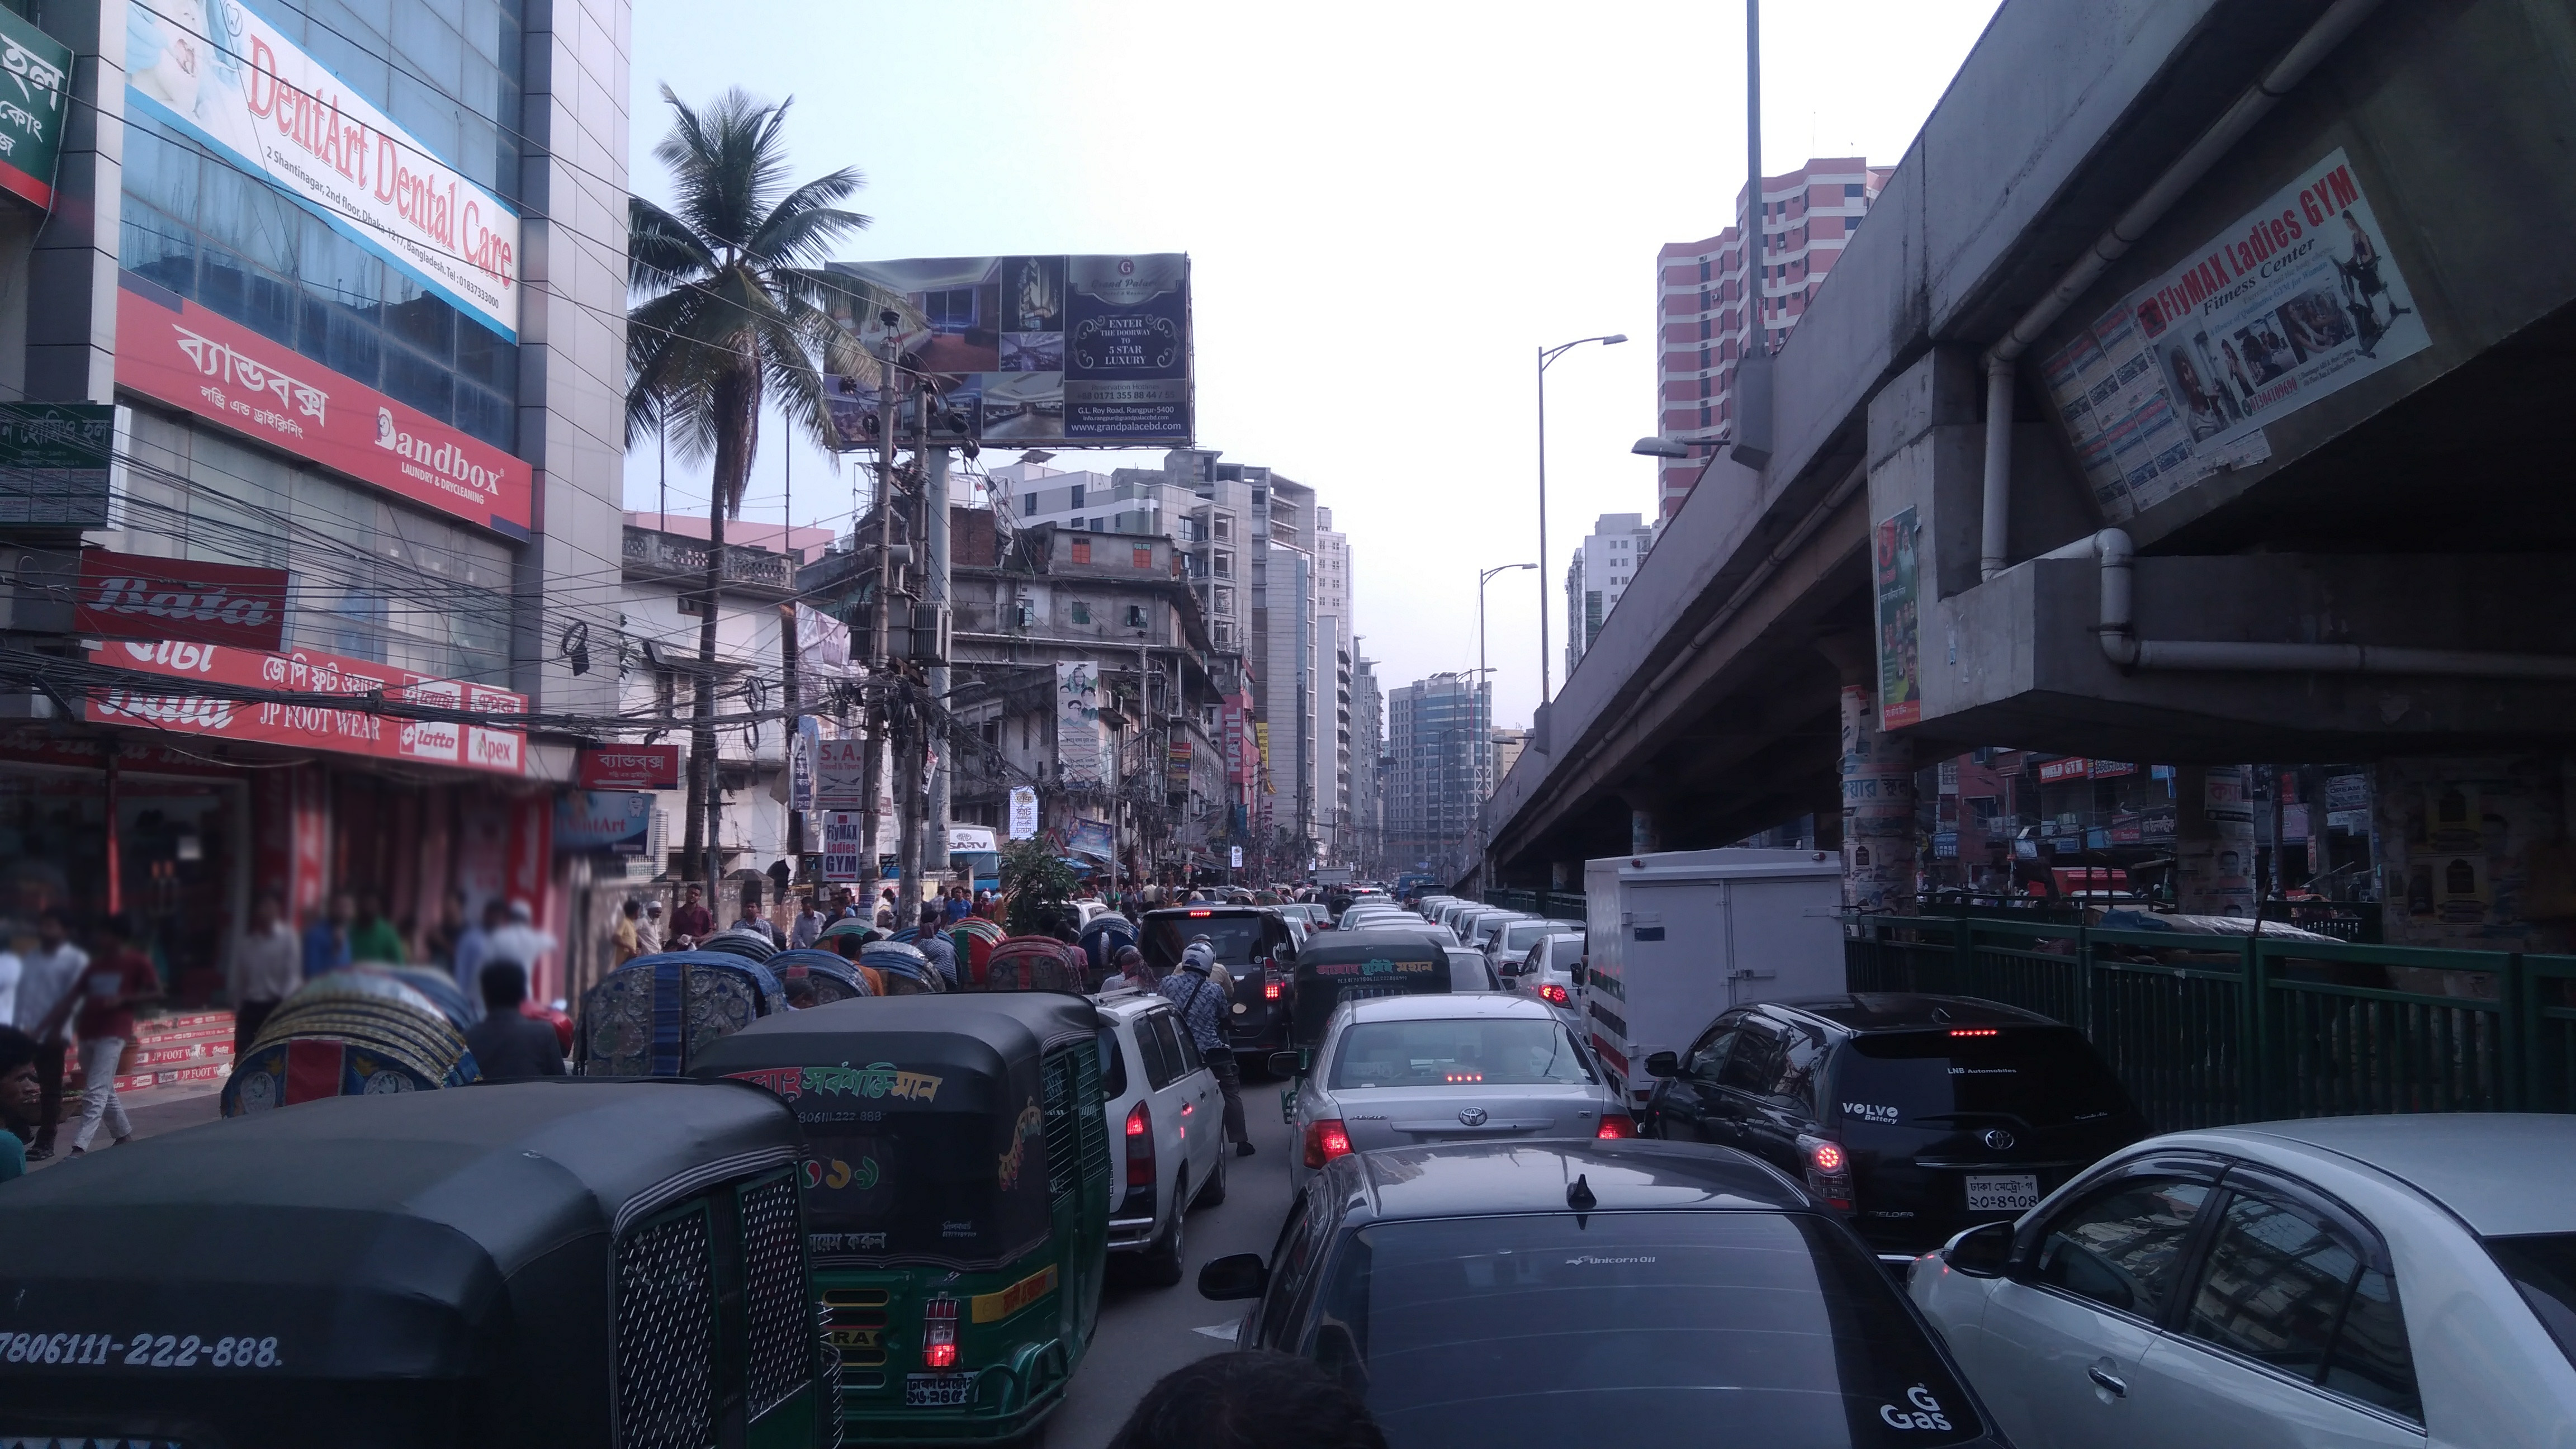car: (1900, 1108, 2574, 1449), (1284, 1138, 1969, 1449), (1631, 989, 2164, 1228), (1571, 855, 1856, 1090), (1293, 993, 1642, 1175), (1070, 982, 1238, 1288), (1132, 899, 1297, 1077), (1486, 908, 1592, 1014)
cng: (9, 1077, 858, 1449), (686, 982, 1127, 1447), (1283, 922, 1451, 1049)
rickshaw: (221, 957, 586, 1123), (586, 939, 789, 1072), (925, 909, 1088, 993)
